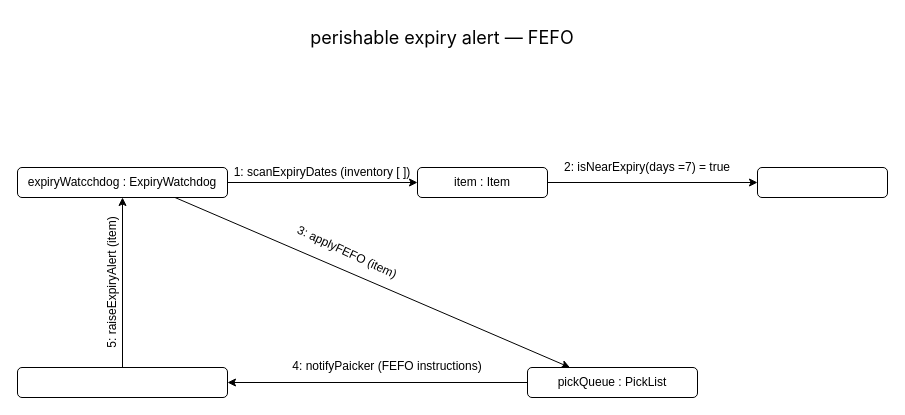
The diagram is 905 pixels wide and 415 high, and some of its shapes have lost their labels. The centre of each missing label's shape, as x and y in pixels:
"manager : Manager" goes at (822,182).
"picjer : Picker" goes at (122,382).
